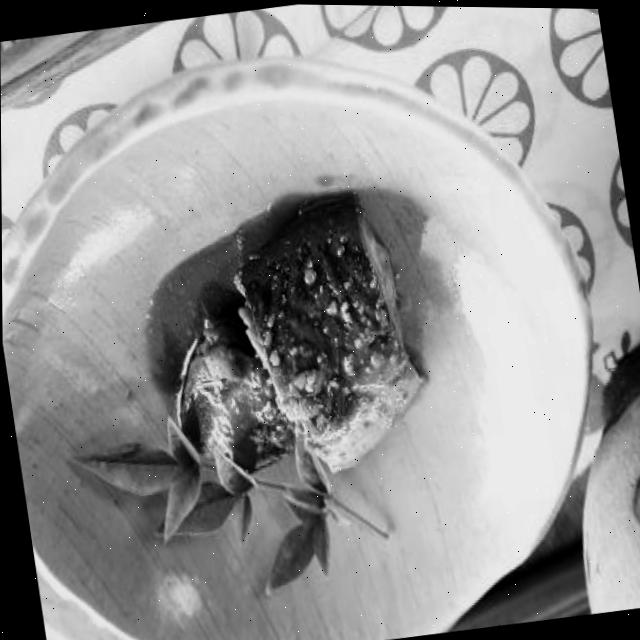熟制海鲜: (113, 177, 460, 523)
